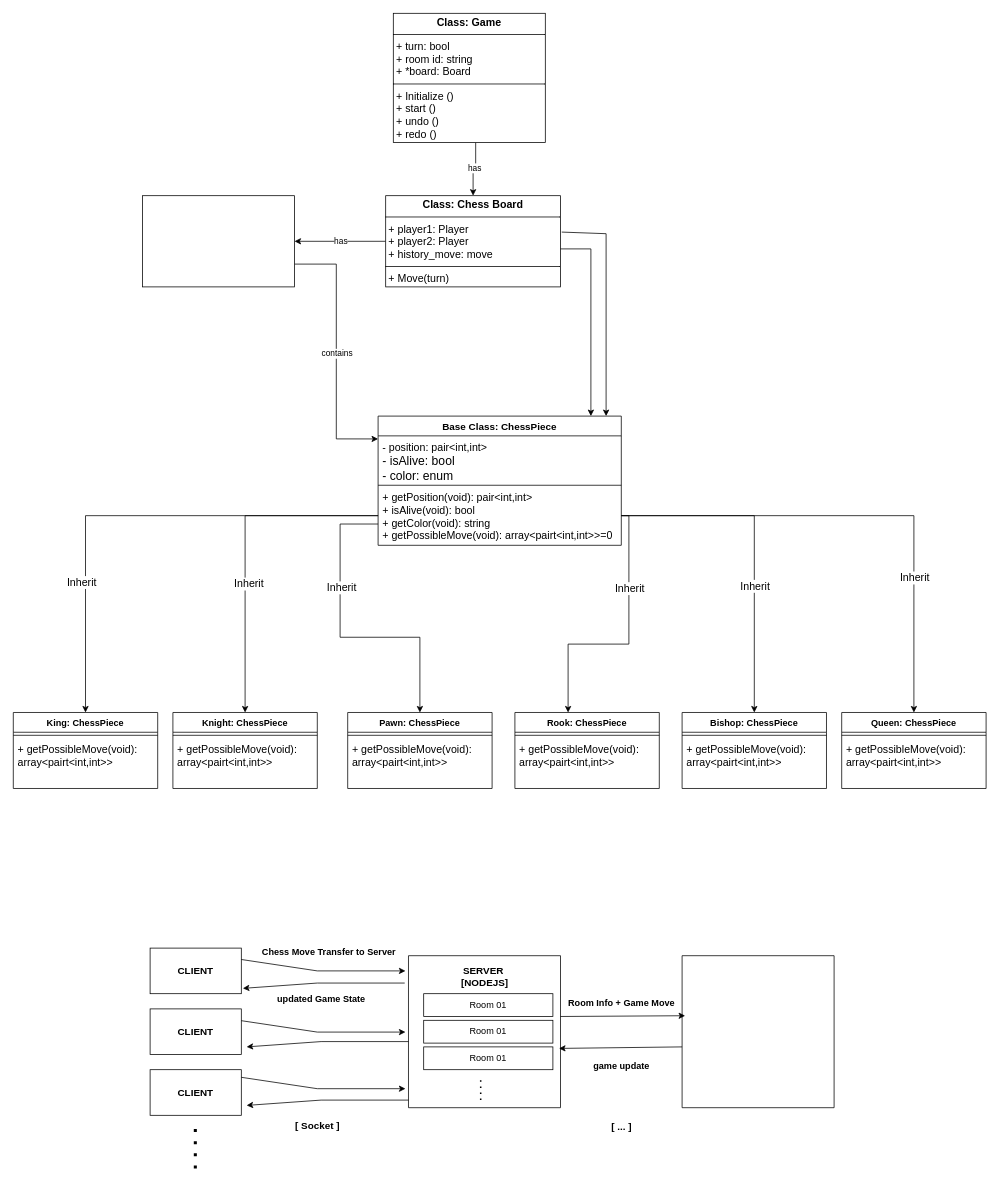
Image size: 999x1184. Some labels were removed from this diagram. Each missing label, with the centre of its shape:
Class: Player + player_id: int + pieces [16]: array + make_move (piece_id, x, y): the point at 218,241
GAME LOGIC SERVER C++: the point at 757,1031
